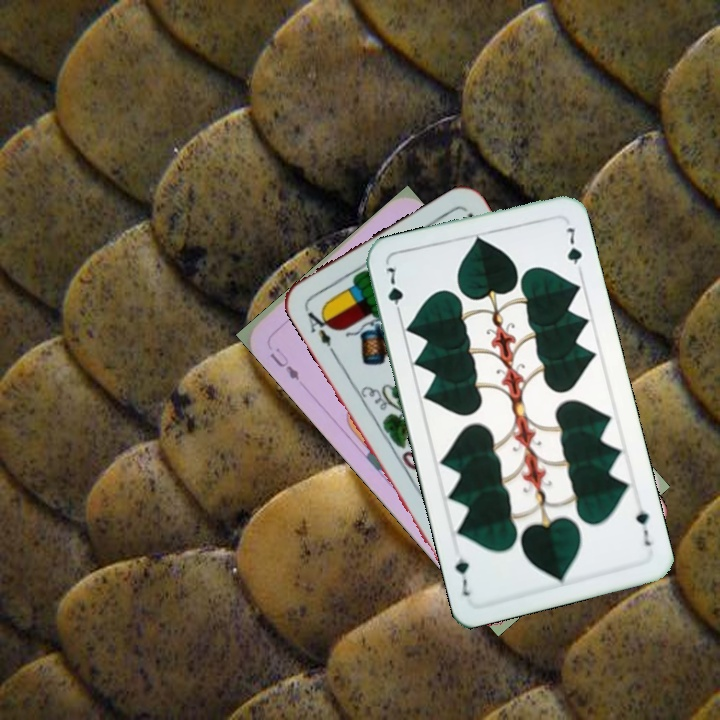EA: (300, 303, 338, 357)
EU: (265, 343, 303, 383)
G7: (379, 263, 406, 320), (631, 505, 654, 549)
